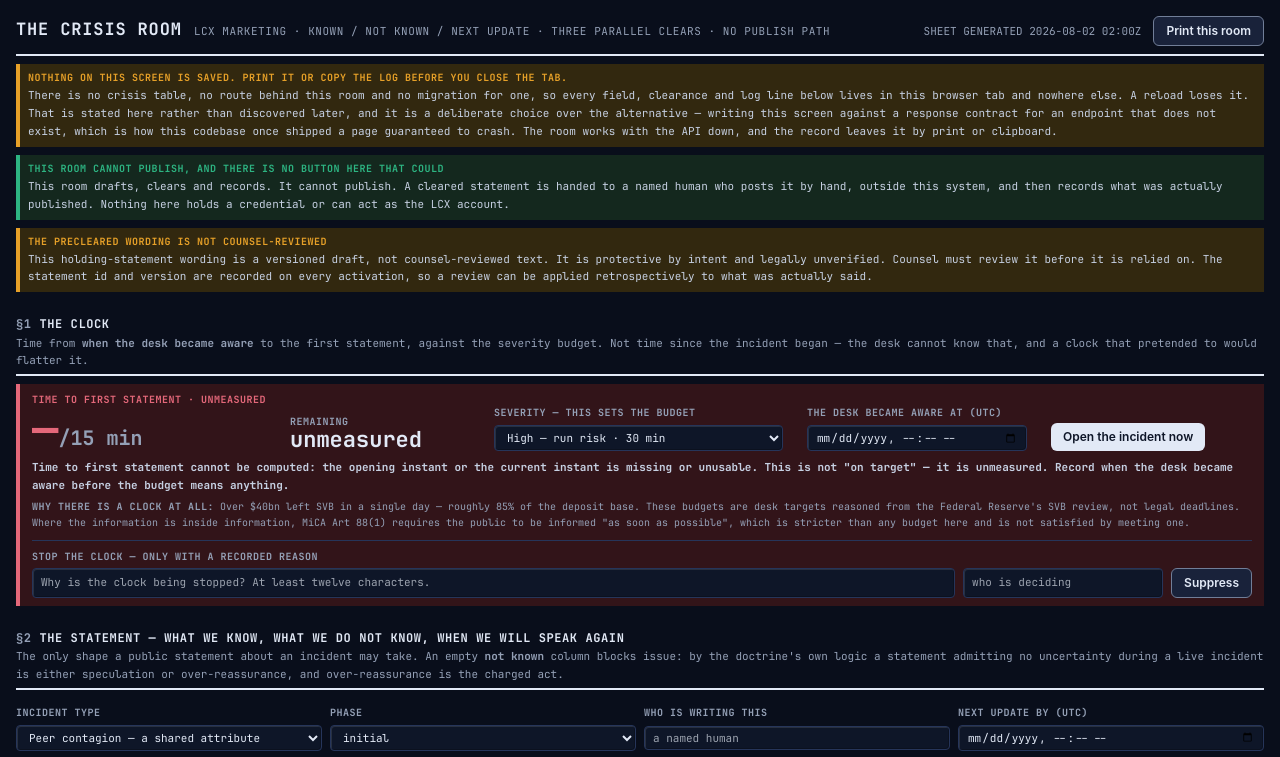
Scenario: suppressing the clock › refuses a suppression with no recorded reason, and cites the rule
The image size is (1280, 757).
Click the button "Open the incident now" at [1128, 437], box x1=1051 y1=423 x2=1205 y2=451
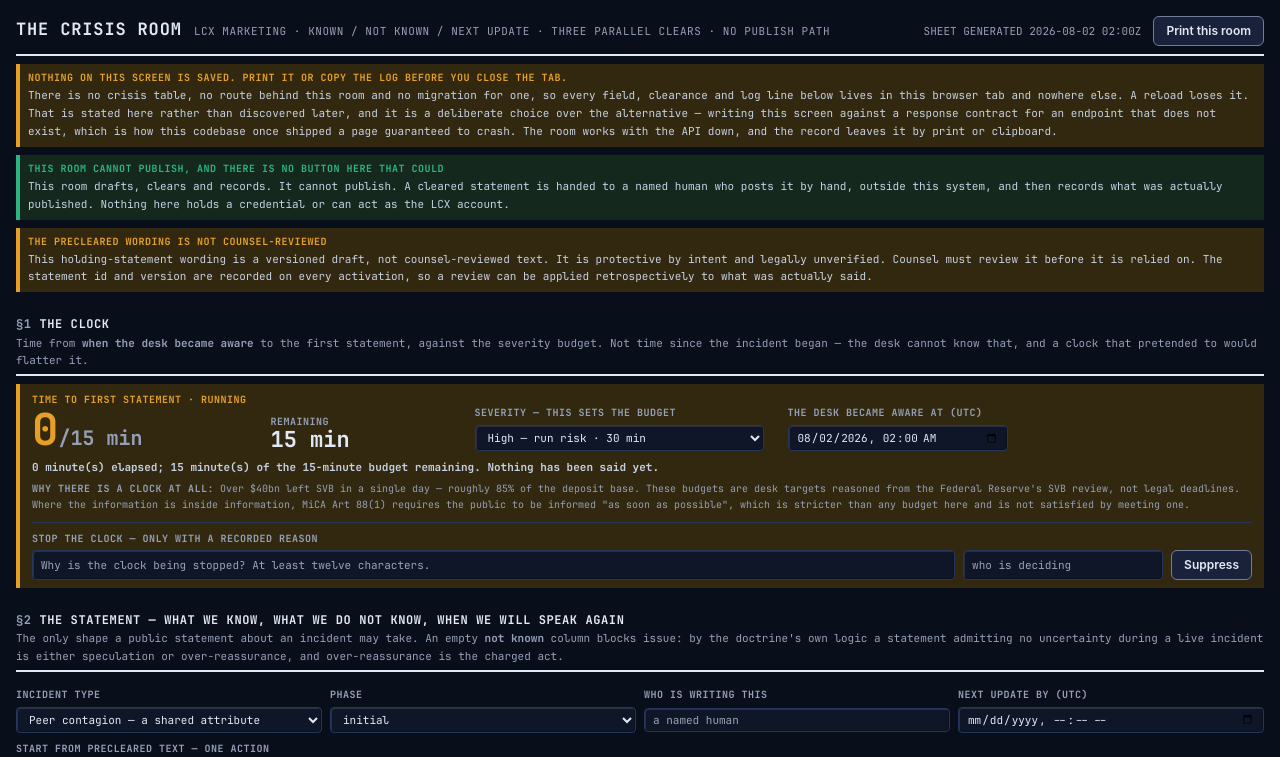
Type "nik" into the field named "Suppressed by" at [1063, 565], box x1=963 y1=550 x2=1163 y2=580
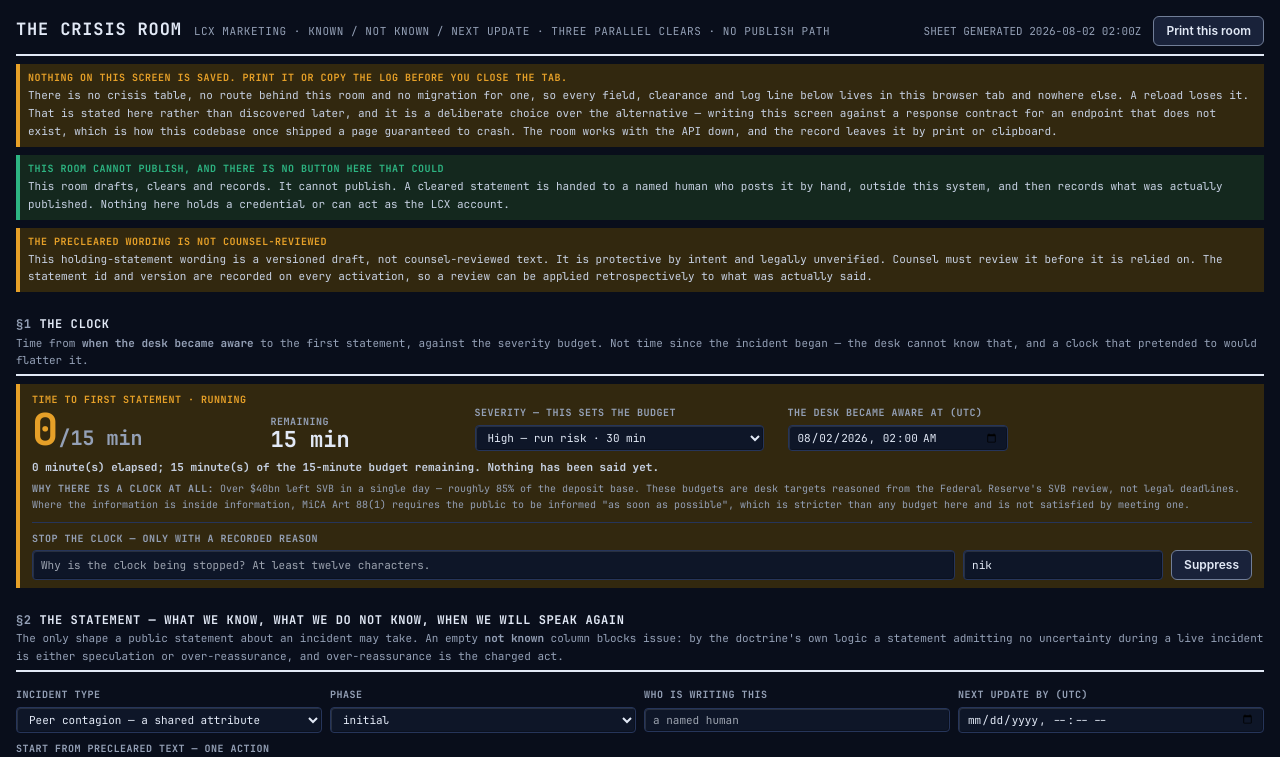
Click the button "Suppress" at [1212, 565], box x1=1171 y1=550 x2=1252 y2=580
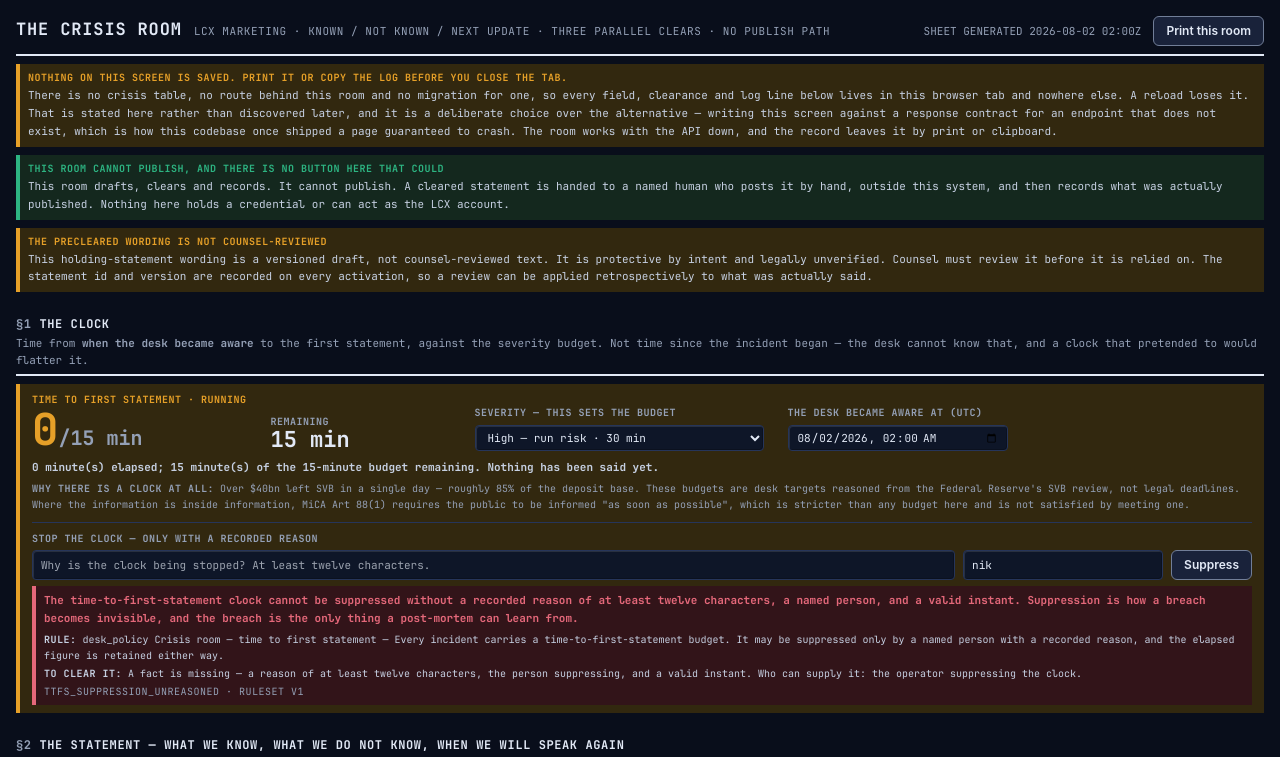
Expected: the element with test id "suppression-refusal" shows "cannot be suppressed without a recorded reason", x1=44 y1=593 x2=1206 y2=625
Expected: the element with test id "suppression-refusal" shows "Rule:", x1=44 y1=633 x2=76 y2=646
Expected: the element with test id "suppression-refusal" shows "To clear it:", x1=44 y1=667 x2=122 y2=680
